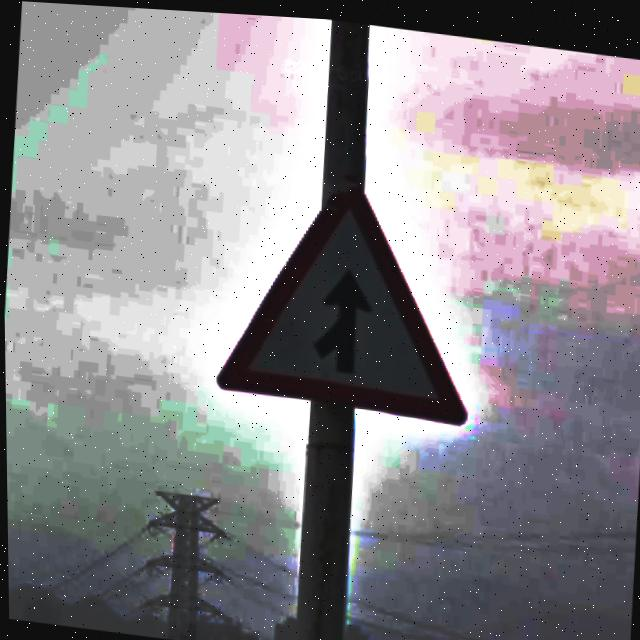leftmerge: (217, 172, 466, 420)
